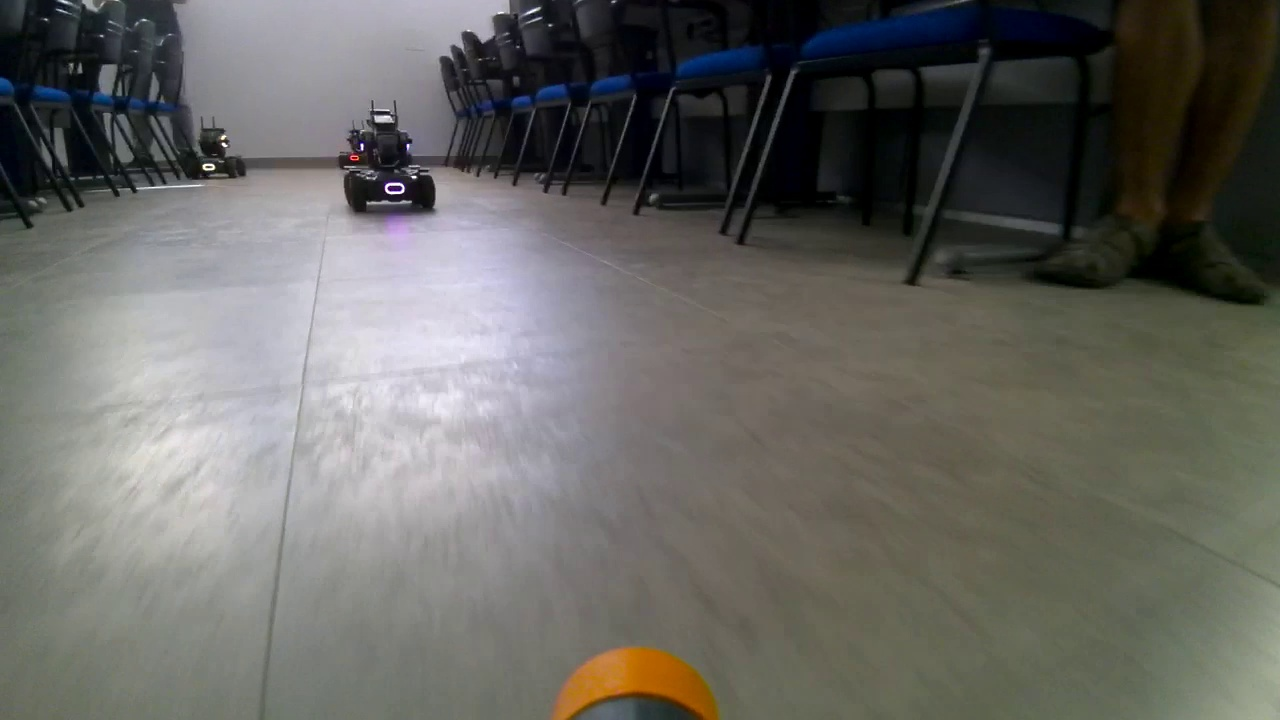robot: (342, 105, 438, 216), (183, 116, 255, 177), (335, 118, 394, 172)
